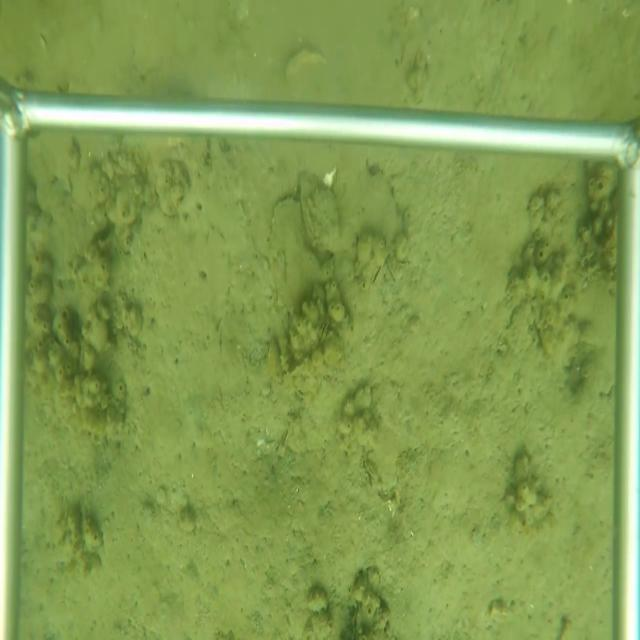Oyster-Closed: (262, 335, 280, 377)
Oyster-Indeterminate: (297, 166, 341, 257)
